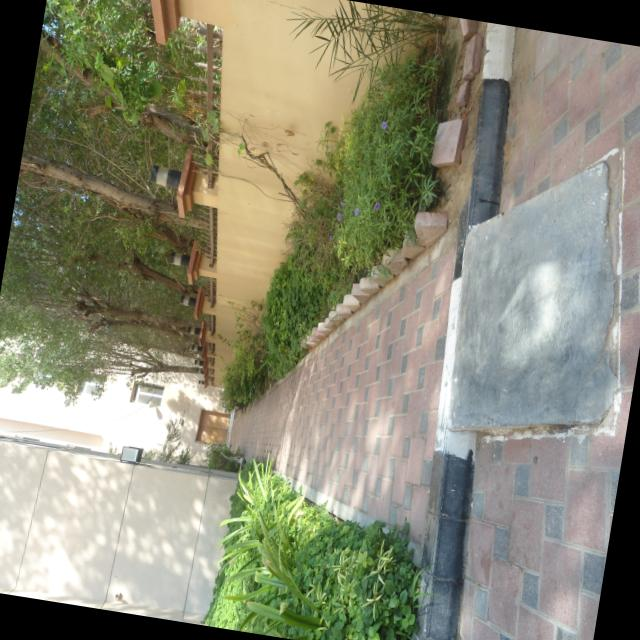bush: (200, 36, 442, 435), (198, 449, 434, 640)
path: (229, 227, 459, 557)
ramp: (419, 127, 640, 463)
tree-chair-bench-table-wall: (0, 0, 241, 407)
